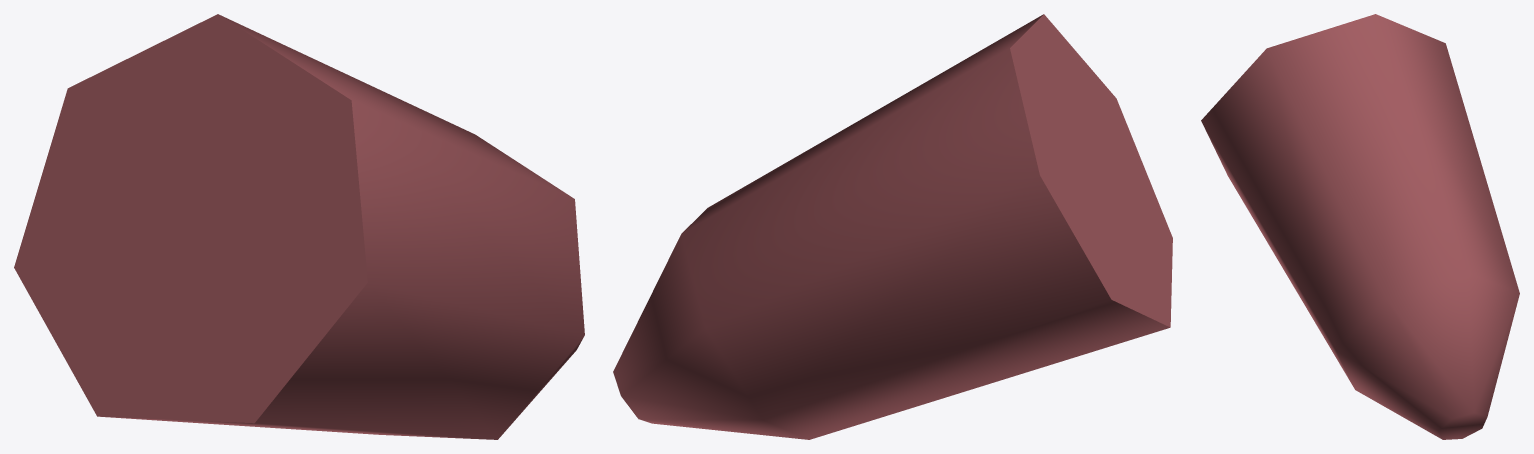
Rendered from bulbfreak_skirt_0.obj.
3 renders of one model, left to right at view 1: azimuth 30°, elevation 25°; view 2: azimuth 150°, elevation 25°; view 3: azimuth 270°, elevation 25°, orthographic. The views are drawn at different scales.
Visible parts, largest first — view 1: bulbfreak_skirt_0; view 2: bulbfreak_skirt_0; view 3: bulbfreak_skirt_0.
Boxes of the visible parts, x1=… form: bulbfreak_skirt_0: x1=14, y1=14, x2=584, y2=439; bulbfreak_skirt_0: x1=613, y1=14, x2=1172, y2=439; bulbfreak_skirt_0: x1=1201, y1=14, x2=1519, y2=439.
Size of the model in its own units: 0.3943 by 0.3248 by 0.3007.
